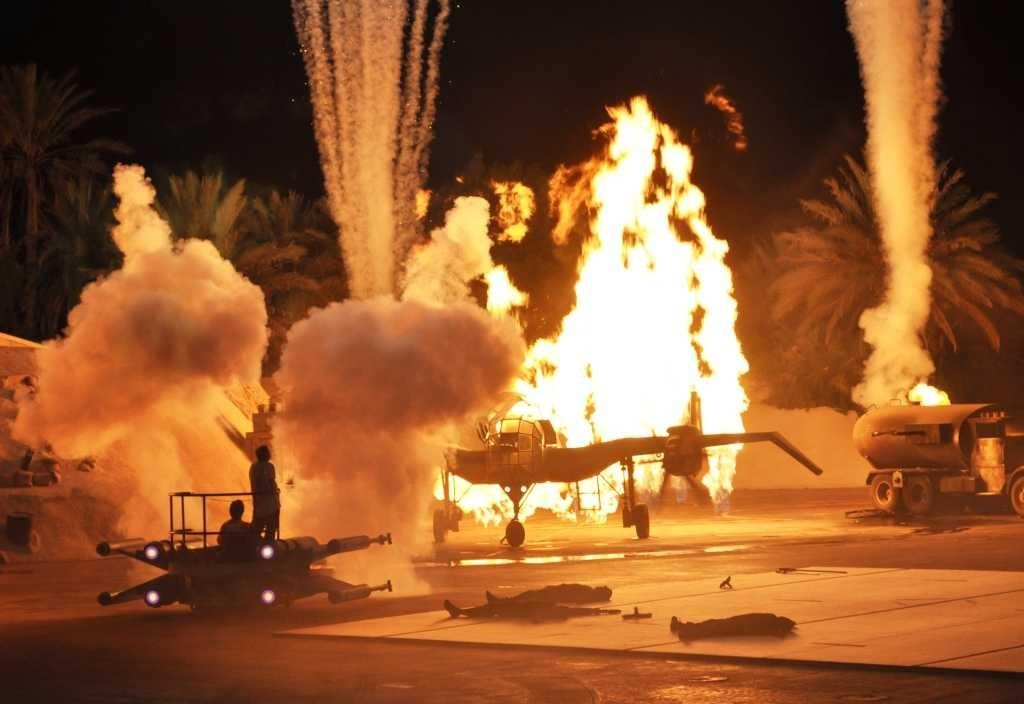fire: (590, 268, 727, 427), (598, 173, 643, 263), (538, 343, 585, 427)
